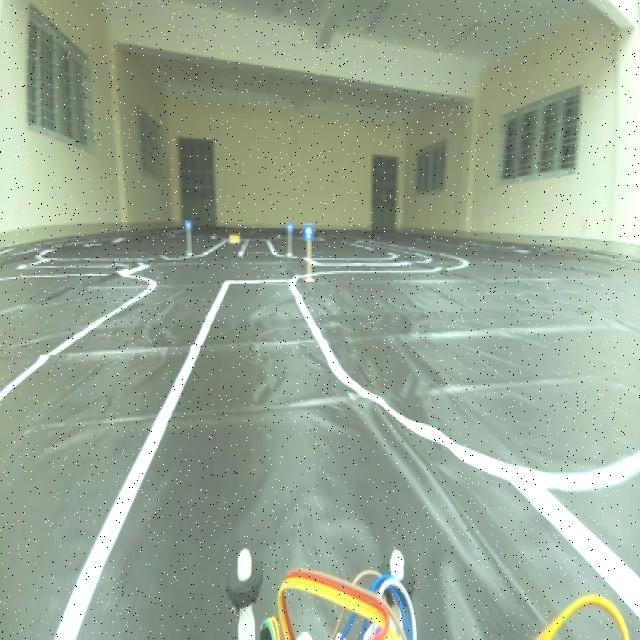onewayroad: (301, 218, 316, 245), (284, 218, 294, 235), (185, 217, 192, 231)
roadblock: (225, 231, 242, 247)
